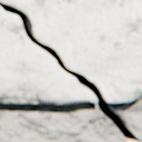brick: (13, 140, 72, 141)
broken_brick: (0, 0, 141, 101), (0, 7, 95, 103)
crack: (0, 2, 141, 141)
